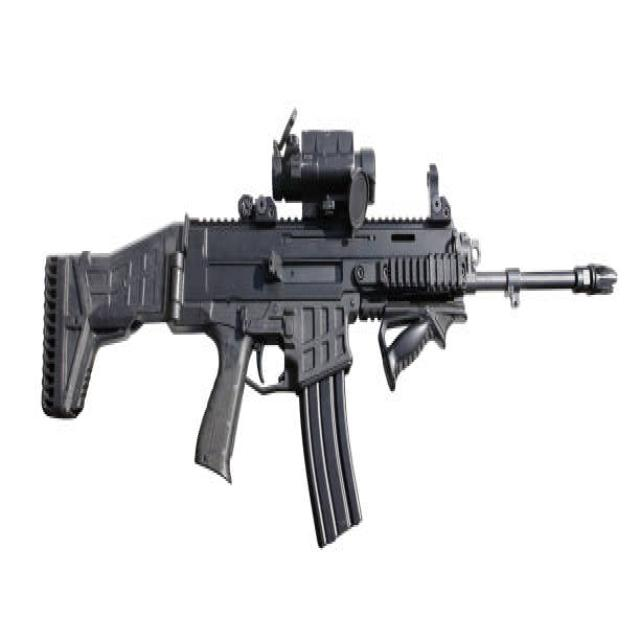rifle: (30, 106, 618, 592)
